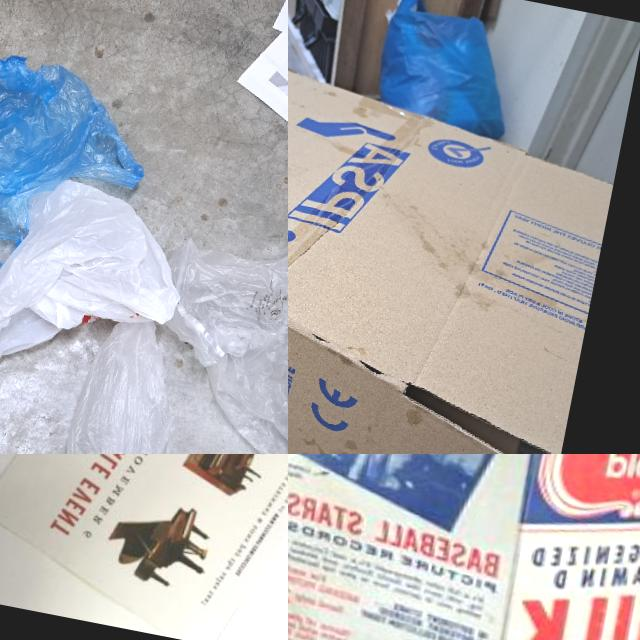caixinha: (288, 454, 640, 640)
papel: (0, 454, 288, 640), (189, 0, 288, 176)
papelão: (288, 34, 624, 454)
sacola plástica: (54, 222, 288, 454), (0, 154, 196, 406), (0, 32, 155, 296), (368, 0, 528, 140)
